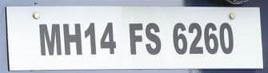0: (218, 22, 236, 59)
1: (82, 21, 99, 58)
2: (187, 22, 205, 56)
4: (98, 19, 119, 56)
6: (171, 22, 189, 56), (203, 20, 219, 56)
F: (126, 20, 144, 56)
H: (61, 20, 84, 57)
M: (35, 20, 62, 57)
S: (144, 21, 163, 57)
